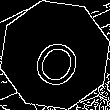O_NE: (23, 22, 87, 88)
